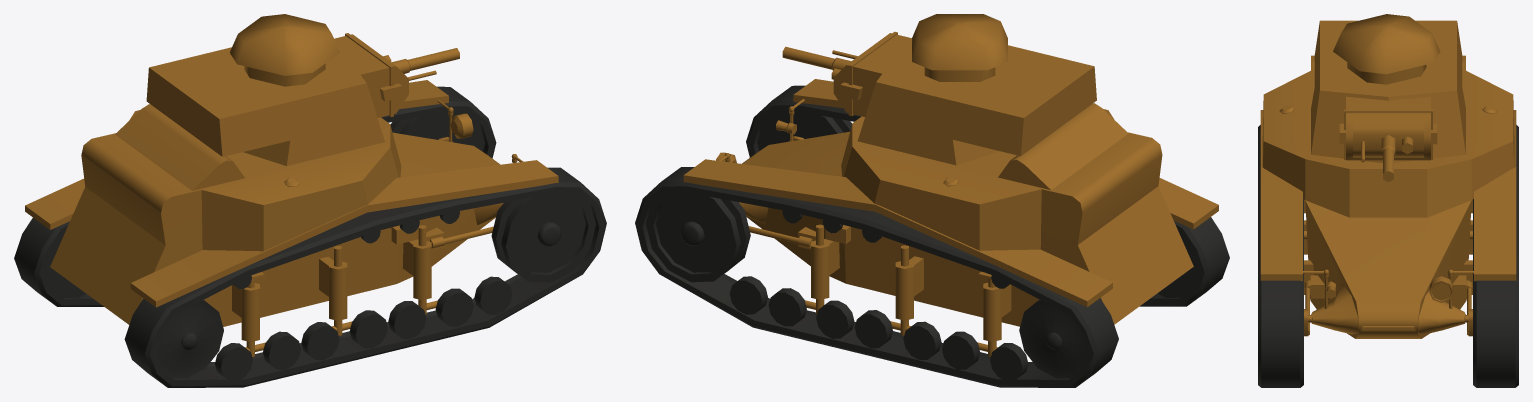
The model's file is tanker.fbx.
3 views of the same model, side by side, from view 1: azimuth 30°, elevation 25°; view 2: azimuth 150°, elevation 25°; view 3: azimuth 270°, elevation 25° (orthographic). The views are drawn at different scales.
Visible parts, largest first — view 1: polySurface613, polySurface635, polySurface628, polySurface614, polySurface652, polySurface636, polySurface627, polySurface640, polySurface634, polySurface629, polySurface637, polySurface595 (+11 smaller); view 2: polySurface613, polySurface635, polySurface627, polySurface629, polySurface637, polySurface636, polySurface628, polySurface661, polySurface634, polySurface614, polySurface652, polySurface604 (+11 smaller); view 3: polySurface613, polySurface635, polySurface636, polySurface627, polySurface628, polySurface614, polySurface629, polySurface634, polySurface633, polySurface632, polySurface602, polySurface668 (+2 smaller).
Boxes of the visible parts, box(x1,y1,x2,y2) form: polySurface613: box(50, 104, 503, 326); polySurface635: box(146, 47, 384, 166); polySurface628: box(124, 167, 606, 387); polySurface614: box(130, 160, 558, 307); polySurface652: box(491, 193, 595, 282); polySurface636: box(229, 14, 339, 86); polySurface627: box(14, 86, 496, 306); polySurface640: box(155, 300, 223, 378); polySurface634: box(334, 33, 408, 117); polySurface629: box(25, 80, 448, 229); polySurface637: box(390, 112, 484, 151); polySurface595: box(329, 245, 347, 335); polySurface613: box(739, 103, 1193, 326); polySurface635: box(857, 45, 1096, 165); polySurface627: box(635, 167, 1118, 387); polySurface629: box(683, 159, 1112, 307); polySurface637: box(646, 192, 750, 282); polySurface636: box(912, 14, 1007, 81); polySurface628: box(746, 85, 1229, 306); polySurface661: box(1019, 299, 1087, 378); polySurface634: box(833, 31, 911, 116); polySurface614: box(793, 79, 1218, 229); polySurface652: box(757, 111, 851, 150); polySurface604: box(895, 245, 913, 335); polySurface613: box(1262, 55, 1514, 338); polySurface635: box(1311, 20, 1465, 162); polySurface636: box(1333, 14, 1440, 84); polySurface627: box(1473, 125, 1518, 387); polySurface628: box(1258, 125, 1303, 387); polySurface614: box(1260, 110, 1302, 281); polySurface629: box(1474, 110, 1516, 281); polySurface634: box(1339, 96, 1437, 160); polySurface633: box(1353, 121, 1423, 156); polySurface632: box(1381, 135, 1395, 181); polySurface602: box(1429, 276, 1453, 302); polySurface668: box(1391, 181, 1419, 193).
Size of the model in its own units: 258 by 154 by 130.
